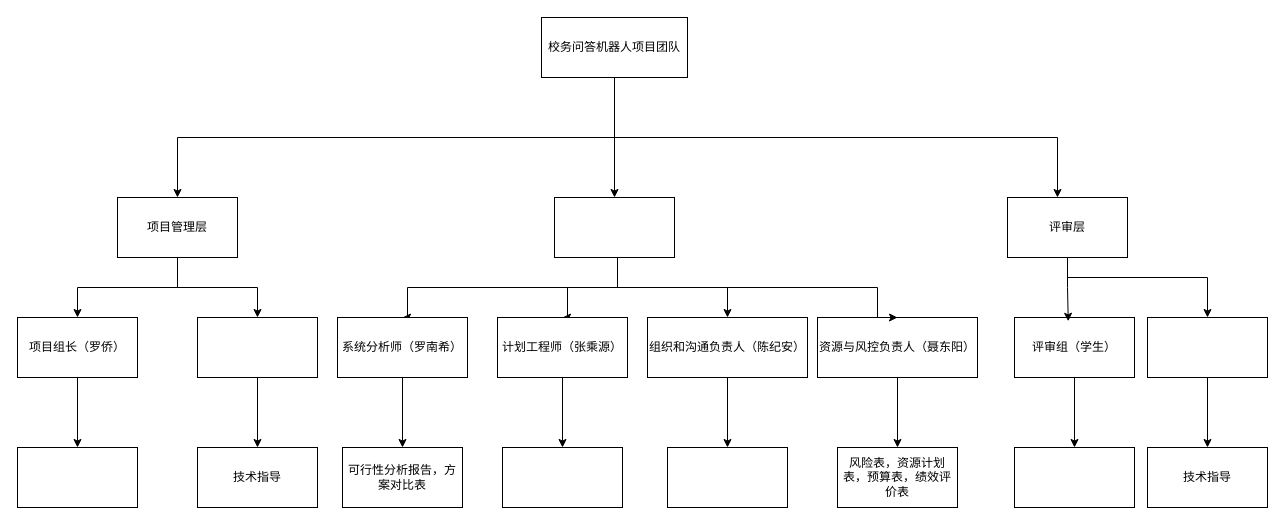
Image size: 1285x525. Some labels were removed from this diagram. Here are the shapes that lost their labels. From the top down, the centre of each, then its label:
the point at 614,227: 核心执行层
the point at 257,347: 项目负责人（罗侨）
the point at 1207,347: 评审指导（苏奎）
the point at 77,477: 项目章程，进度管理，记录版本，ppt终稿
the point at 562,477: WBS图，Gantt图，里程碑表
the point at 727,477: OBS图，干系人表，责任矩阵
the point at 1074,477: 文档评审
